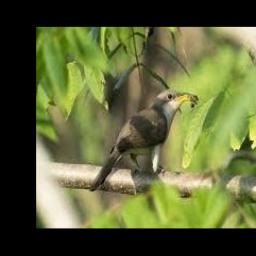Cuckoo: (89, 90, 197, 191)
